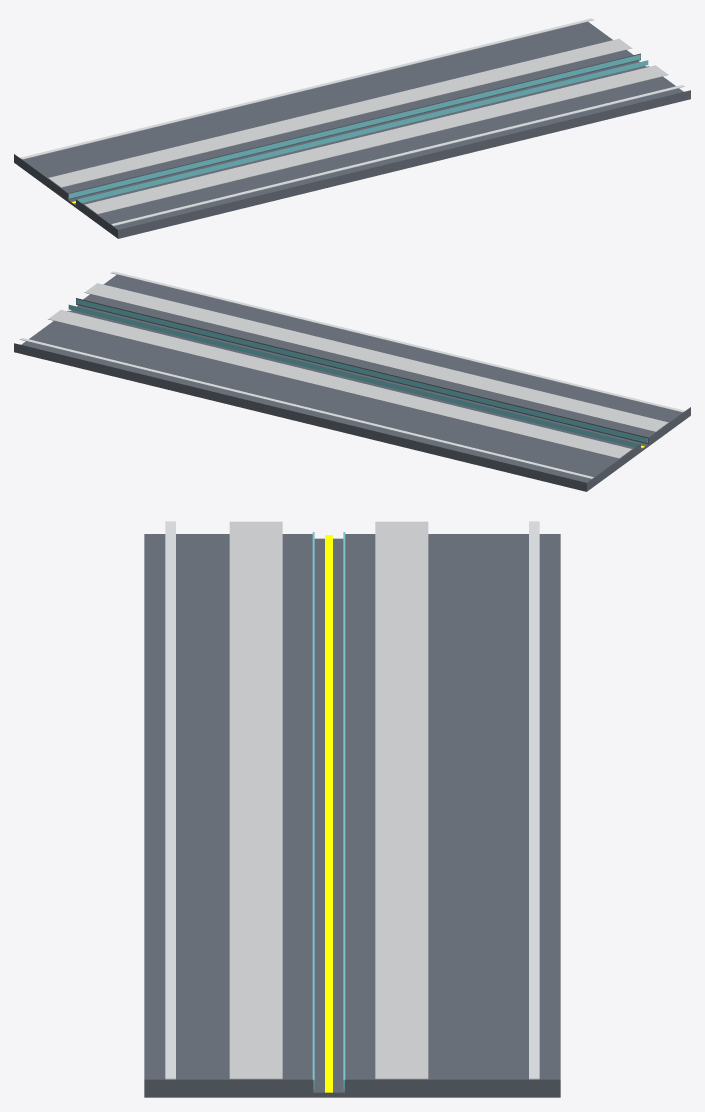
Rendered from ext_maglev_guideway_04.glb.
3 views of the same model, one above another, from view 1: azimuth 30°, elevation 25°; view 2: azimuth 150°, elevation 25°; view 3: azimuth 270°, elevation 25° (orthographic). The views are drawn at different scales.
Parts seen in each view (by area): view 1: Deck, Stator_Lev, Stator_Guide, Bed, Side_Lines; view 2: Deck, Stator_Lev, Stator_Guide, Bed, Side_Lines; view 3: Deck, Stator_Lev, Bed, Side_Lines, Guide_Glow, Stator_Guide.
Part boxes in pixels (bbox=[...]): Deck: bbox=[14, 21, 690, 236]; Stator_Lev: bbox=[48, 38, 668, 214]; Stator_Guide: bbox=[68, 54, 648, 202]; Bed: bbox=[14, 61, 690, 238]; Side_Lines: bbox=[19, 18, 684, 225]; Deck: bbox=[14, 274, 690, 489]; Stator_Lev: bbox=[48, 283, 668, 458]; Stator_Guide: bbox=[68, 299, 647, 447]; Bed: bbox=[14, 305, 690, 491]; Side_Lines: bbox=[20, 271, 685, 478]; Deck: bbox=[144, 534, 560, 1093]; Stator_Lev: bbox=[229, 521, 428, 1079]; Bed: bbox=[144, 538, 560, 1097]; Side_Lines: bbox=[165, 521, 539, 1079]; Guide_Glow: bbox=[325, 535, 332, 1092]; Stator_Guide: bbox=[312, 532, 345, 1089].
Bounding box in the file's own units: 9.99 × 0.154 × 3.15.
